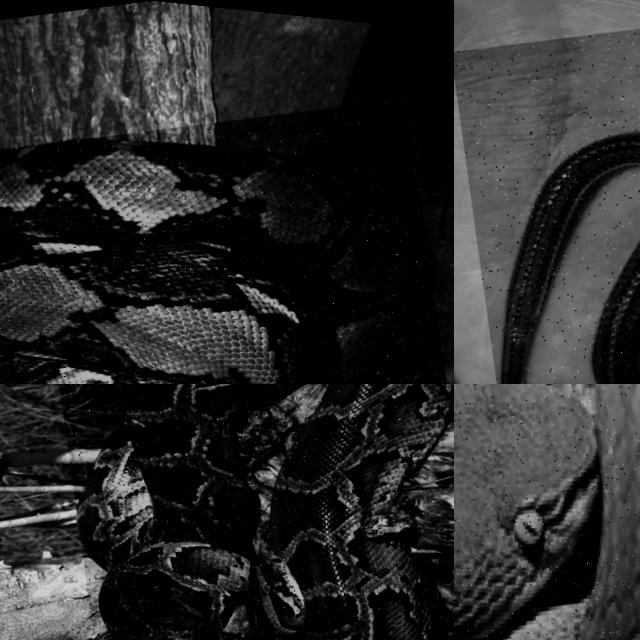Calliophis intestinalis: (502, 134, 639, 383)
Malayopython reticulatus: (0, 139, 431, 383)
Python bivittatus: (78, 384, 453, 639)
Trimeresurus macrops: (454, 384, 639, 639)
